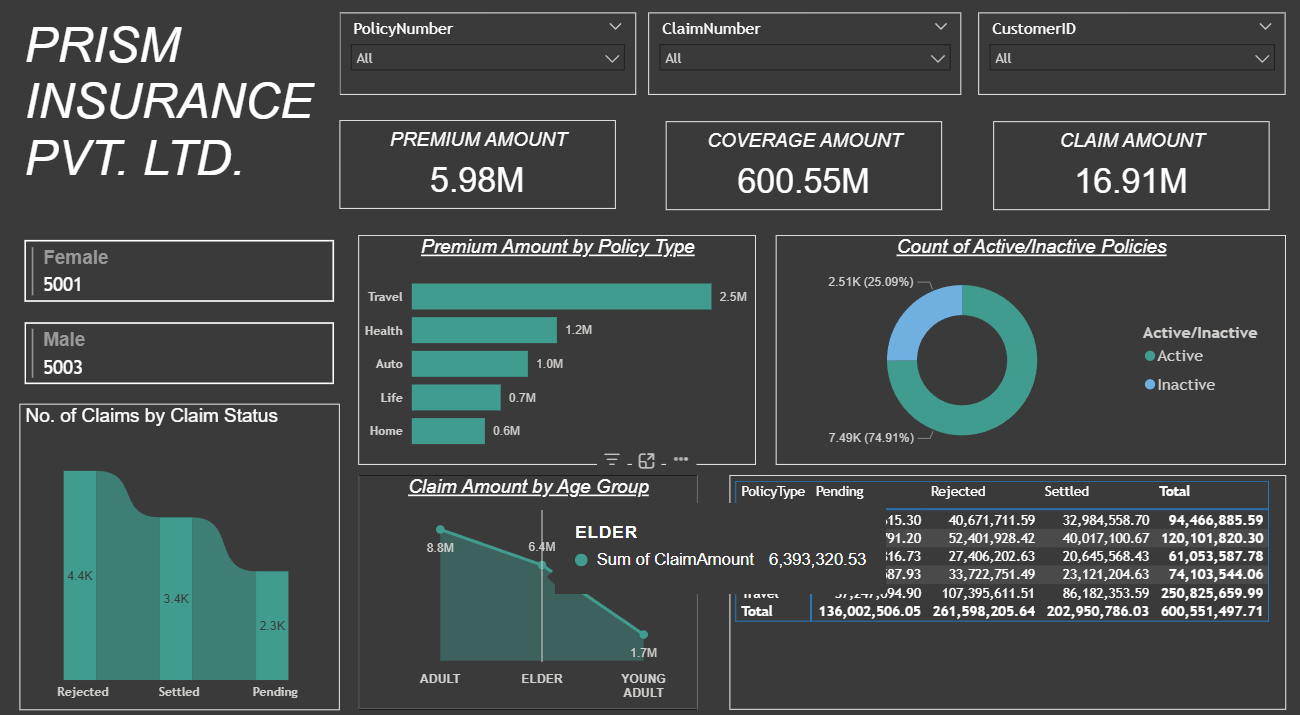

What the dashboard file says about the page in this screenshot:
{"tool":"powerbi","page":{"name":"Insurance Overview","canvas":[1280,720],"ordinal":0},"visuals":[{"type":"slicer","fields":{"Values":["InsuranceData.PolicyNumber"]},"box":[336.2,22,290.9,81],"z":0},{"type":"slicer","fields":{"Values":["InsuranceData.ClaimNumber"]},"box":[639.5,22,307.4,81],"z":1000},{"type":"slicer","fields":{"Values":["InsuranceData.CustomerID"]},"box":[963.3,22,301.9,81],"z":2000},{"type":"textbox","box":[22,22,314.2,300.5],"z":3000},{"type":"card","title":"PREMIUM AMOUNT","fields":{"Values":["Sum(InsuranceData.PremiumAmount)"]},"box":[336.2,127.6,271.2,87.1],"z":4000},{"type":"card","title":"COVERAGE AMOUNT","fields":{"Values":["Sum(InsuranceData.CoverageAmount)"]},"box":[656.4,128.8,271.2,87.1],"z":5000},{"type":"card","title":"CLAIM AMOUNT","fields":{"Values":["Sum(InsuranceData.ClaimAmount)"]},"box":[977.9,128.8,271.2,87.1],"z":6000},{"type":"multiRowCard","fields":{"Values":["InsuranceData.Gender","CountNonNull(InsuranceData.Gender)"]},"box":[22.1,240.5,314.1,193.9],"z":7000},{"type":"ribbonChart","title":"No. of Claims by Claim Status","fields":{"Category":["InsuranceData.ClaimStatus"],"Y":["CountNonNull(InsuranceData.ClaimStatus)"]},"box":[22.1,406.1,314.1,300.6],"z":8000},{"type":"barChart","title":"Premium Amount by Policy Type","fields":{"Category":["InsuranceData.PolicyType"],"Y":["Sum(InsuranceData.PremiumAmount)"]},"box":[354.6,240.5,390.2,225.8],"z":9000},{"type":"lineChart","title":"Claim Amount by Age Group","fields":{"Category":["InsuranceData.AGE GP"],"Y":["Sum(InsuranceData.ClaimAmount)"]},"box":[354.6,476.1,332.5,230.7],"z":10000},{"type":"donutChart","title":"Count of Active/Inactive Policies","fields":{"Category":["InsuranceData.Active/Inactive"],"Y":["CountNonNull(InsuranceData.Active/Inactive)"]},"box":[764.4,240.5,500.6,225.8],"z":11000},{"type":"pivotTable","fields":{"Values":["Sum(InsuranceData.CoverageAmount)"],"Rows":["InsuranceData.PolicyType"],"Columns":["InsuranceData.ClaimStatus"]},"box":[719,476.1,546,230.7],"z":12000}]}

Visuals, with their boxes in screenshot pixels (x1, y1, x2, y2), scaled from the page's 1280x720 canvas onto the 1300x715 screenshot:
slicer - InsuranceData.PolicyNumber: {"left": 341, "top": 22, "right": 637, "bottom": 102}
slicer - InsuranceData.ClaimNumber: {"left": 649, "top": 22, "right": 962, "bottom": 102}
slicer - InsuranceData.CustomerID: {"left": 978, "top": 22, "right": 1285, "bottom": 102}
textbox: {"left": 22, "top": 22, "right": 341, "bottom": 320}
"PREMIUM AMOUNT" card: {"left": 341, "top": 127, "right": 617, "bottom": 213}
"COVERAGE AMOUNT" card: {"left": 667, "top": 128, "right": 942, "bottom": 214}
"CLAIM AMOUNT" card: {"left": 993, "top": 128, "right": 1269, "bottom": 214}
multiRowCard - InsuranceData.Gender x CountNonNull(InsuranceData.Gender): {"left": 22, "top": 239, "right": 341, "bottom": 431}
"No. of Claims by Claim Status" ribbonChart: {"left": 22, "top": 403, "right": 341, "bottom": 702}
"Premium Amount by Policy Type" barChart: {"left": 360, "top": 239, "right": 756, "bottom": 463}
"Claim Amount by Age Group" lineChart: {"left": 360, "top": 473, "right": 698, "bottom": 702}
"Count of Active/Inactive Policies" donutChart: {"left": 776, "top": 239, "right": 1285, "bottom": 463}
pivotTable - Sum(InsuranceData.CoverageAmount) x InsuranceData.PolicyType: {"left": 730, "top": 473, "right": 1285, "bottom": 702}
